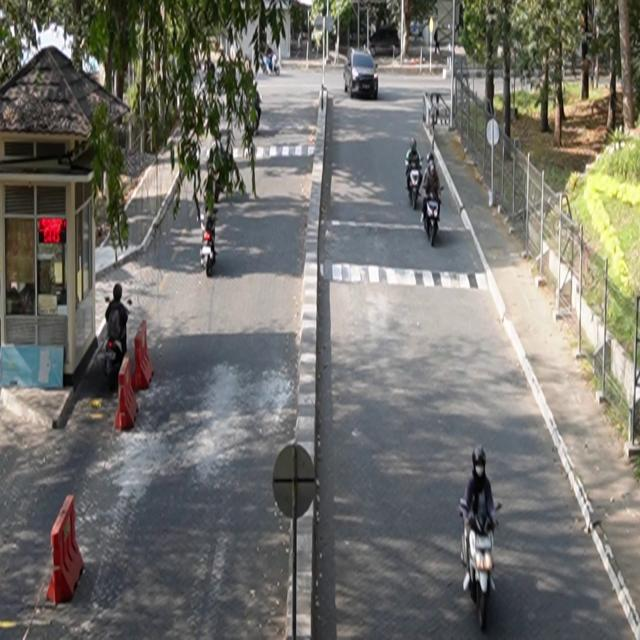car: (344, 47, 380, 100)
